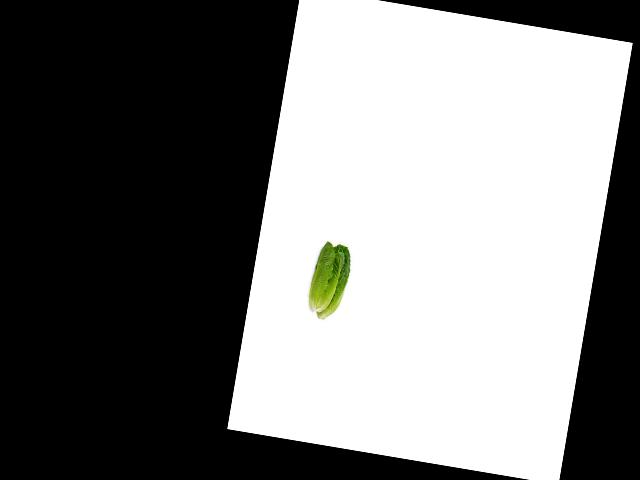lettuce: (300, 238, 354, 322)
